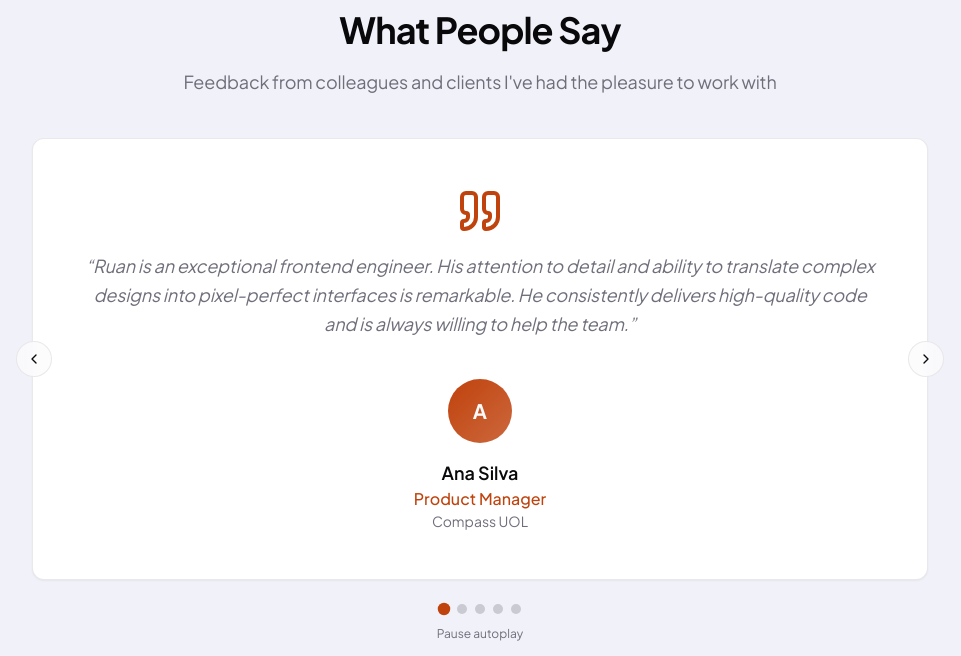
it: TestimonialsSection › jumps to a specific testimonial via the dots
Click the button named "Go to testimonial 5".
click(516, 608)  # box [511, 604, 521, 614]
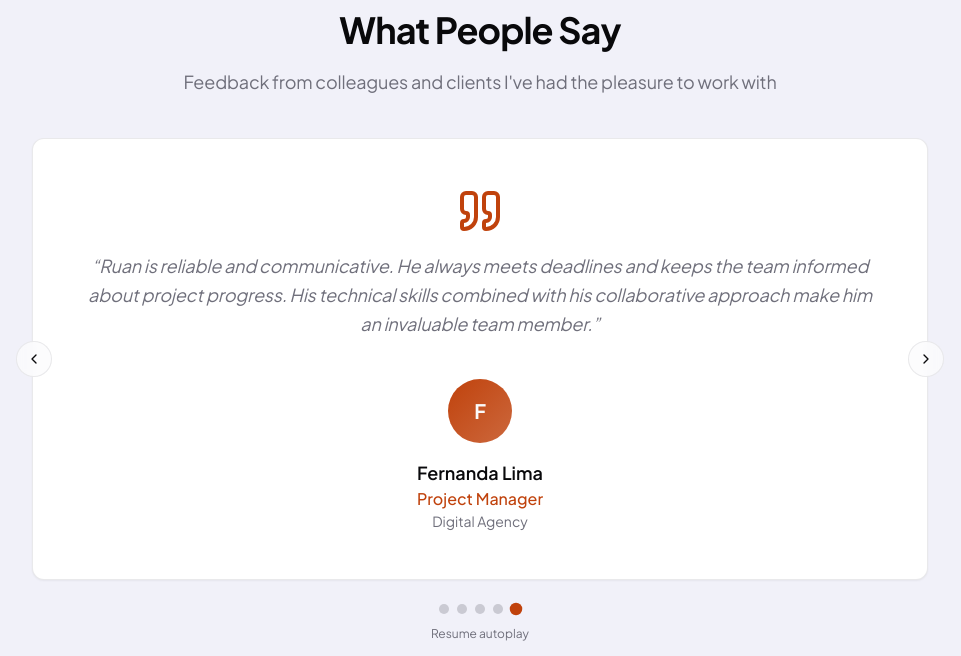
Result: the heading "Fernanda Lima" is shown at [417, 458, 543, 486]
